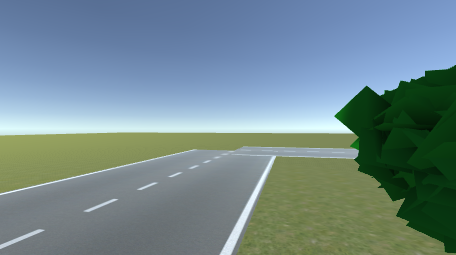tree: (339, 60, 456, 254)
